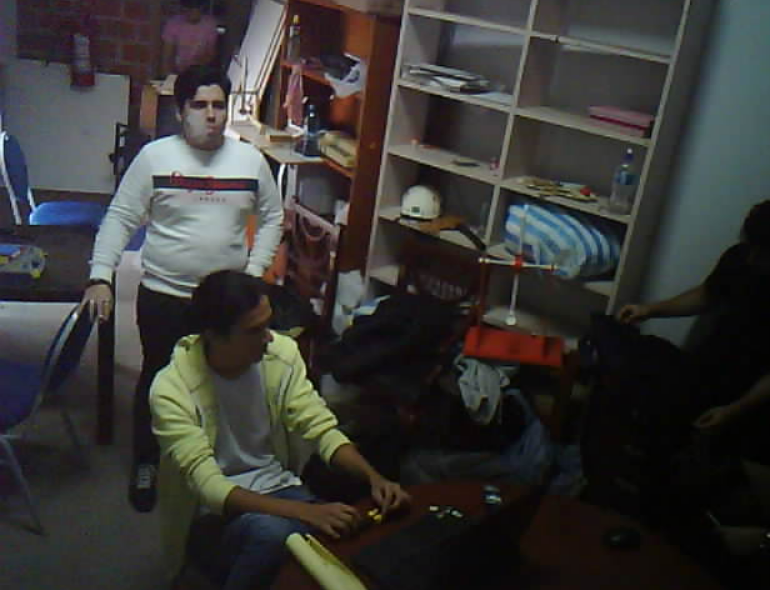person: (53, 36, 277, 516), (135, 258, 429, 590), (569, 141, 770, 505)
